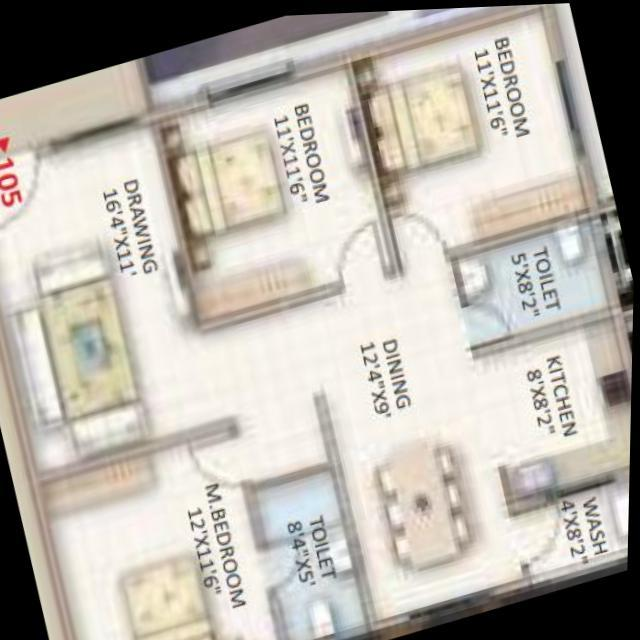Bedroom: (357, 8, 589, 261), (159, 64, 391, 316)
Bedroom with Toilet: (39, 416, 375, 640)
Dining: (372, 429, 487, 580)
Enterance-Foyer: (0, 116, 55, 225)
Kitchen: (484, 318, 633, 496)
Living: (0, 122, 221, 466)
Toilet: (450, 218, 611, 346), (261, 467, 369, 640)
Utility: (519, 481, 632, 580)
